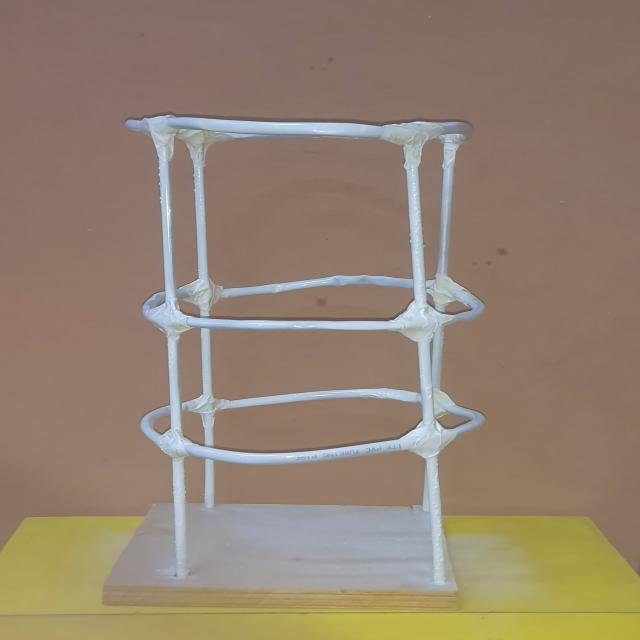silo: (126, 110, 492, 619)
